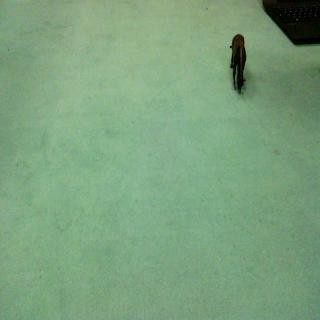horse: (227, 28, 255, 99)
